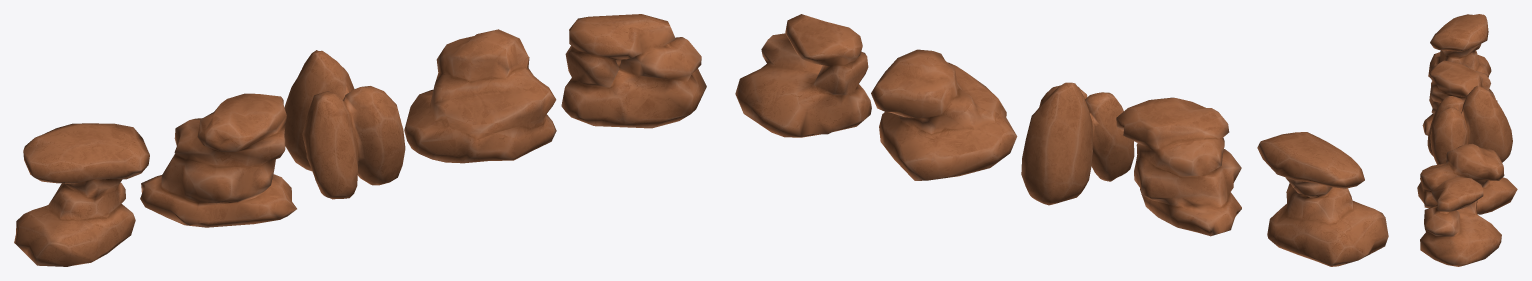
Rendered from Medium_Rocks_Formation.fbx.
The picture shows the model from 3 angles, left to right: view 1: azimuth 30°, elevation 25°; view 2: azimuth 150°, elevation 25°; view 3: azimuth 270°, elevation 25°; orthographic projection. The views are drawn at different scales.
Parts seen in each view (by area): view 1: MRock2, MRock1, MRock4, MRock3, MRock5; view 2: MRock2, MRock1, MRock3, MRock4, MRock5; view 3: MRock3, MRock5, MRock2, MRock4, MRock1.
Boxes of the visible parts, x1,y1,x2,y2 form: MRock2: [404, 29, 556, 163]; MRock1: [140, 93, 296, 227]; MRock4: [14, 123, 149, 266]; MRock3: [561, 14, 706, 128]; MRock5: [284, 50, 405, 199]; MRock2: [871, 49, 1017, 180]; MRock1: [1116, 97, 1241, 236]; MRock3: [735, 14, 871, 137]; MRock4: [1257, 132, 1388, 266]; MRock5: [1021, 82, 1134, 205]; MRock3: [1420, 177, 1501, 266]; MRock5: [1427, 86, 1512, 164]; MRock2: [1417, 143, 1517, 214]; MRock4: [1428, 14, 1491, 80]; MRock1: [1422, 60, 1497, 135].
Bounding box in the file's own units: 2674 × 473 × 554.
